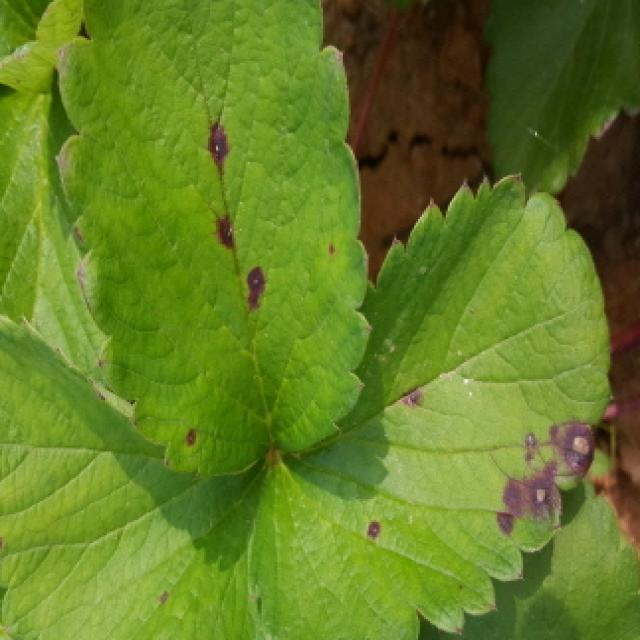Leaf Spot: (244, 171, 614, 640), (56, 0, 375, 480), (0, 313, 271, 640)
